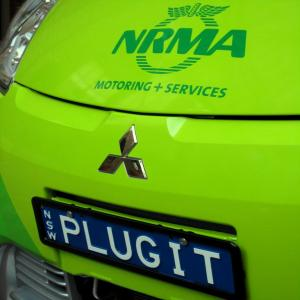Vehicle-registration-plate: (38, 202, 246, 299)
